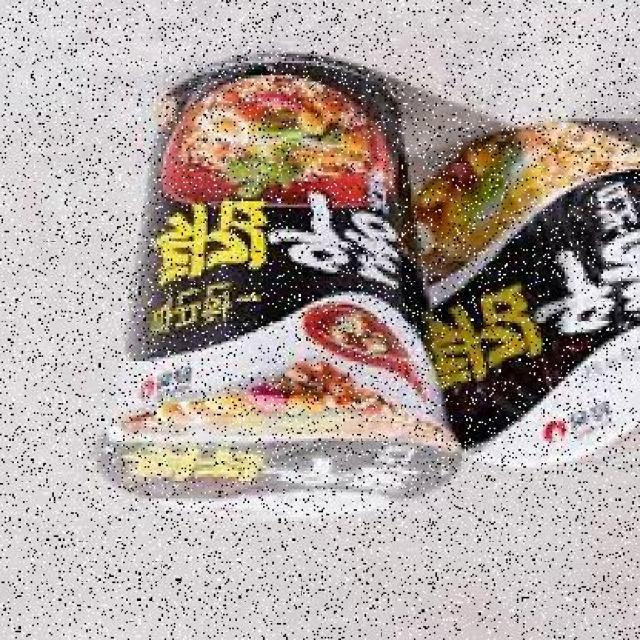Miscellaneous: (102, 54, 455, 520), (411, 122, 640, 500)
